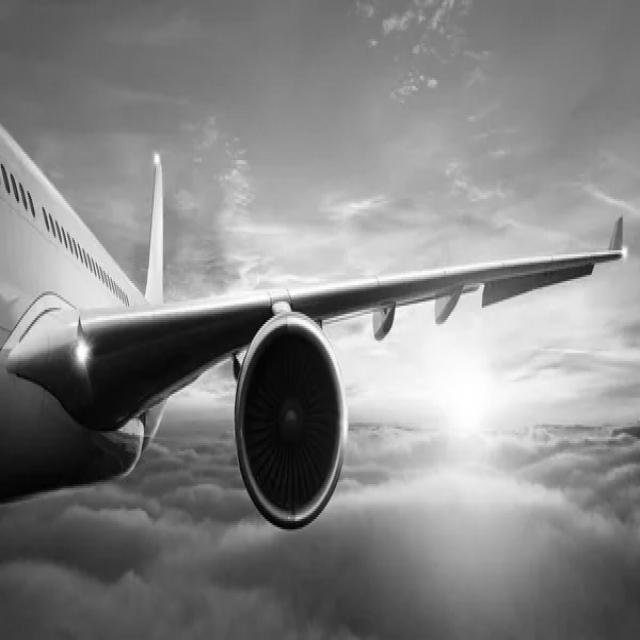Aircraft: (0, 119, 632, 530)
